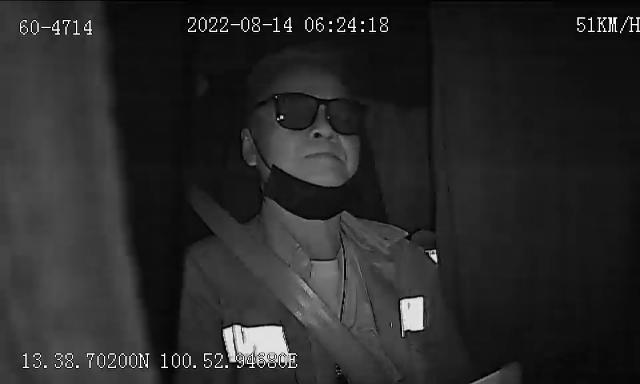Seatbelt: (195, 196, 392, 384)
